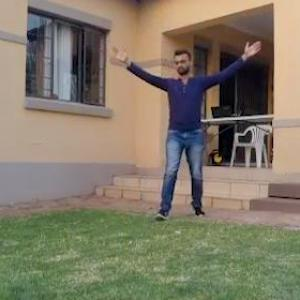takeoff: (87, 27, 243, 226)
